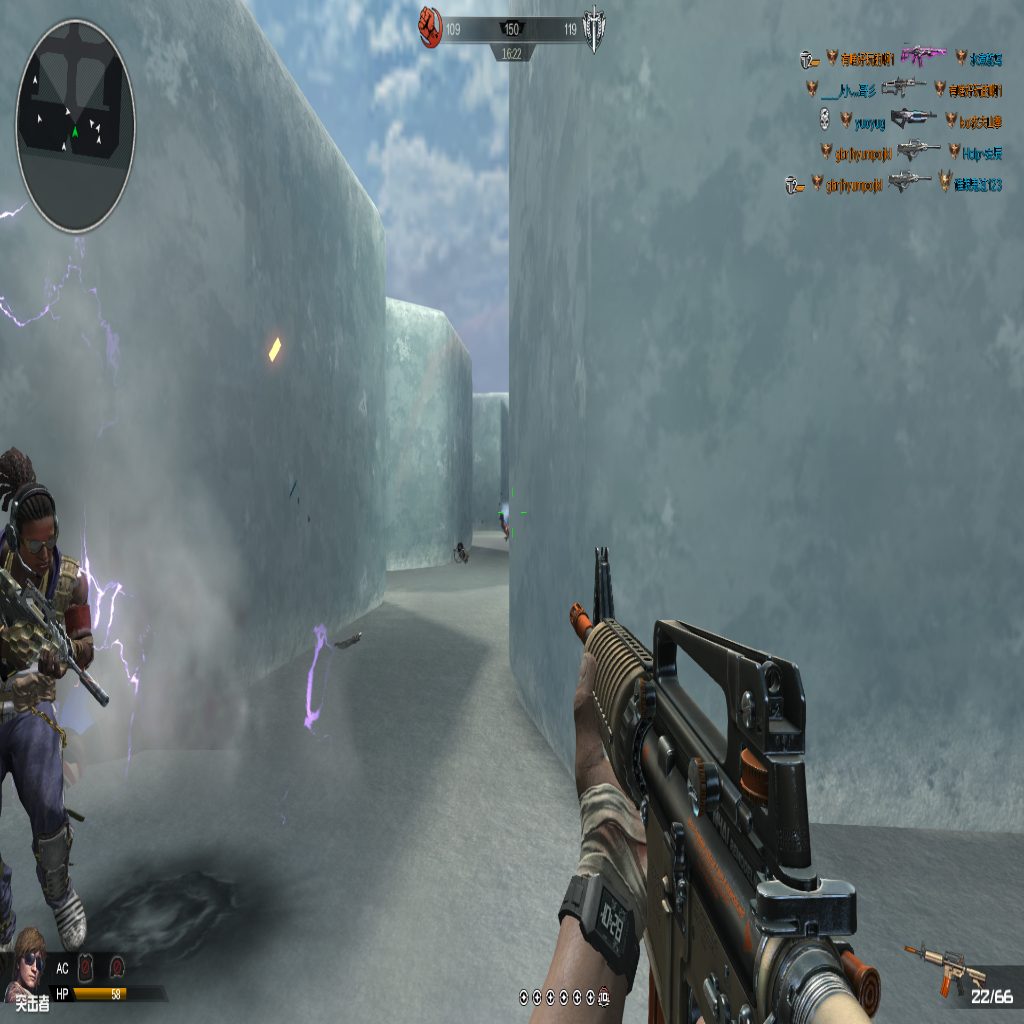tt: (1, 465, 106, 962)
